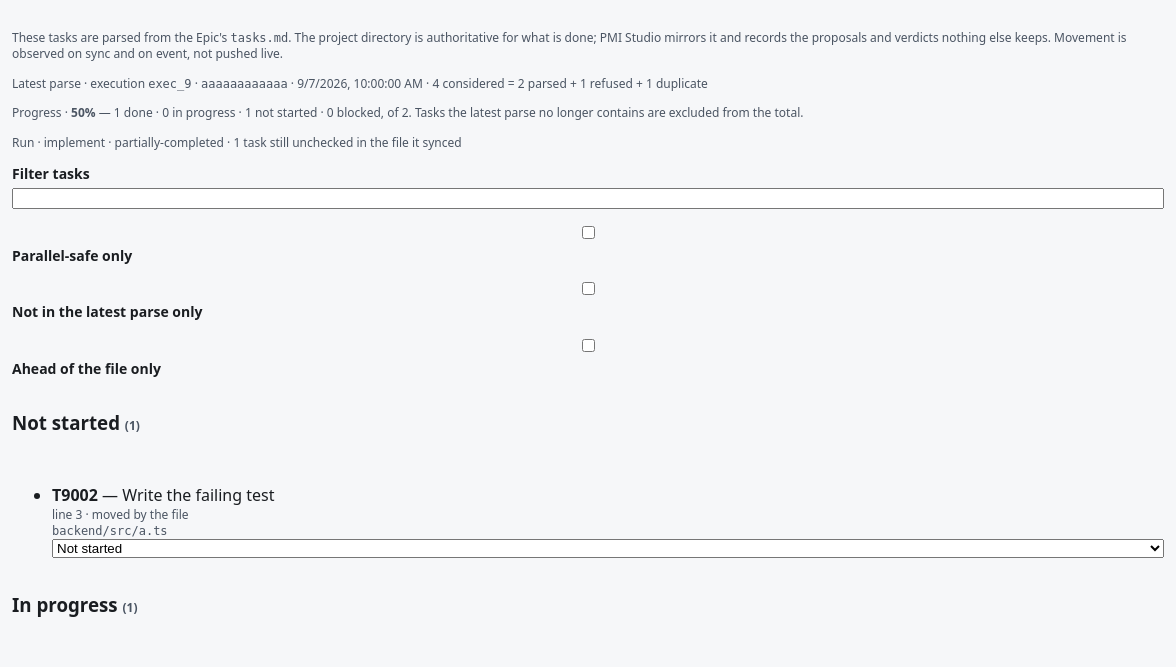
T1785 · filtering by ahead of the file (FR-KAN-053) › narrows to the cards running ahead of the file
The image size is (1176, 667).
Expected: the element with test id "latest-parse" is shown, [12, 75, 708, 92]
Click the checkbox labelled "Ahead of the file only".
click(588, 345)  # box [16, 339, 1161, 352]
(page scrolled)
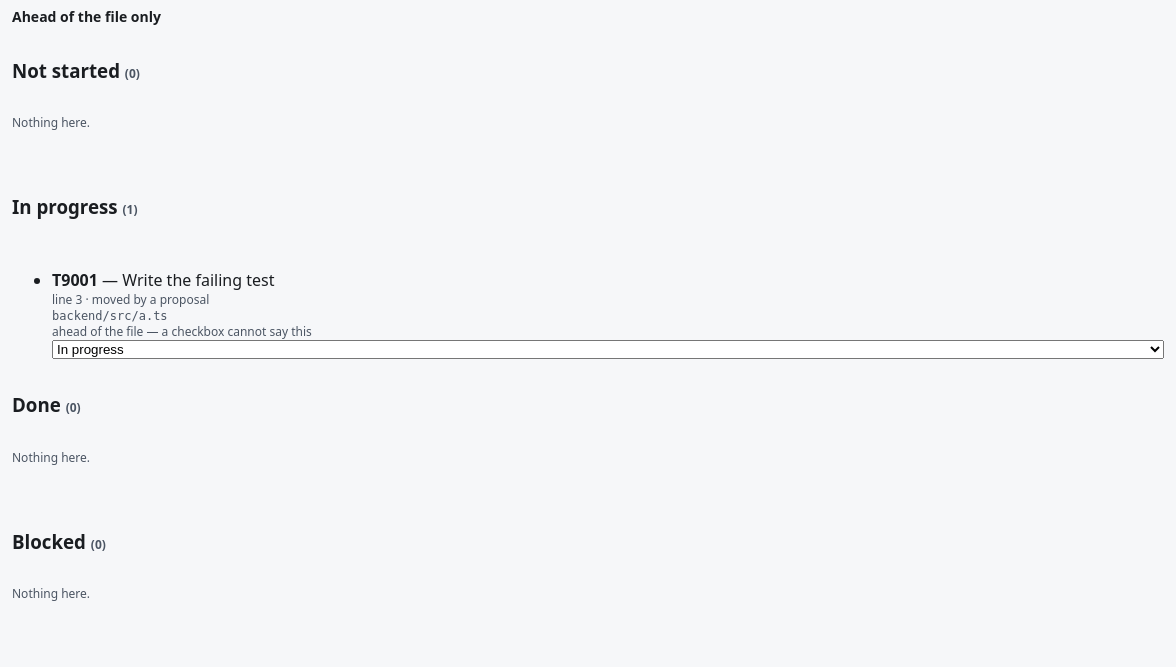
Expected: the list item with test id "task-card" shows "T9001", [52, 269, 98, 291]
Now the number of list items with test id "task-card" is 1, box [52, 268, 1164, 359]
